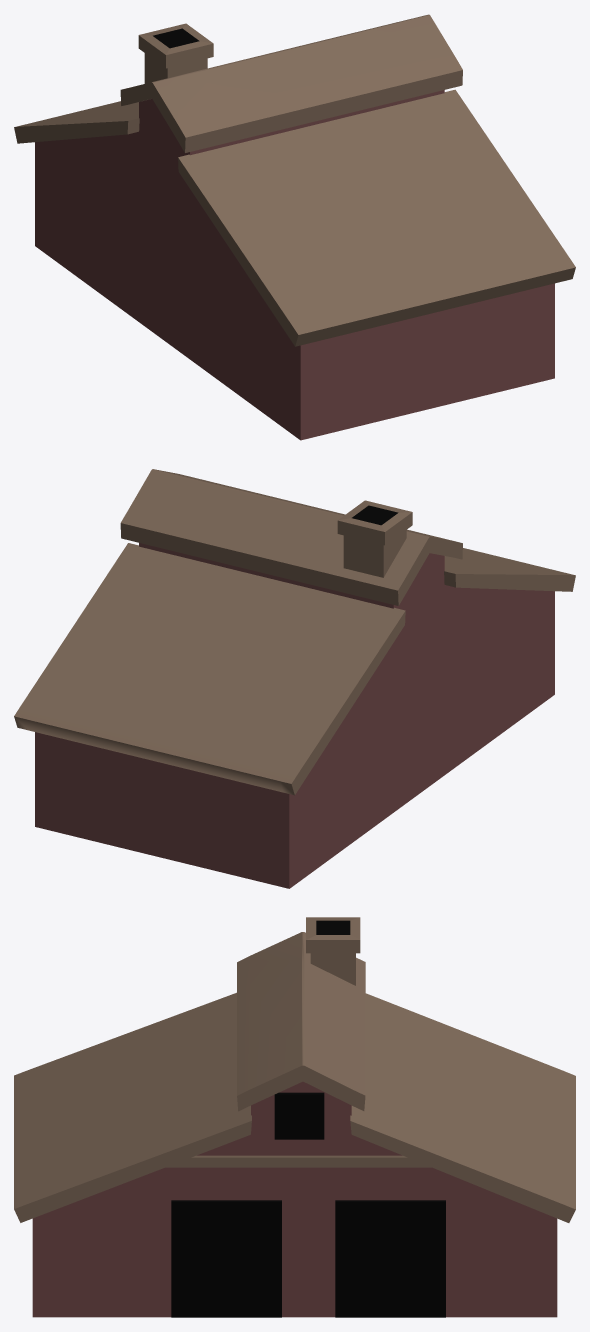
File: Barn.fbx
The picture shows the model from 3 angles, top to bottom: view 1: azimuth 30°, elevation 25°; view 2: azimuth 150°, elevation 25°; view 3: azimuth 270°, elevation 25°; orthographic projection.
Parts seen in each view (by area): view 1: house1; view 2: house1; view 3: house1.
Part boxes in pixels (left/top/right/bottom): house1: left=14, top=14, right=575, bottom=440; house1: left=14, top=469, right=575, bottom=888; house1: left=14, top=917, right=575, bottom=1317.
Size of the model in its own units: 55.16 by 53.92 by 97.98.
